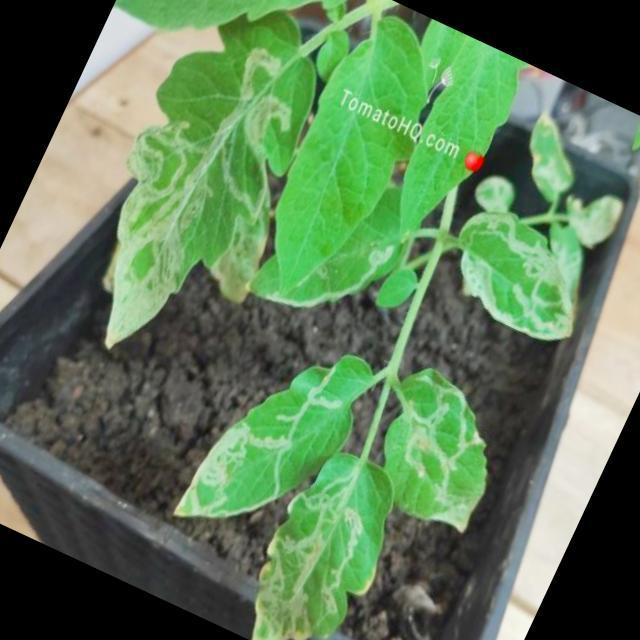Tomato healthy leaf: (112, 0, 337, 33)
Tomato target spot leaf: (109, 13, 315, 339), (171, 356, 383, 521), (250, 456, 393, 640), (256, 196, 401, 342), (381, 369, 487, 534), (456, 212, 576, 342)
